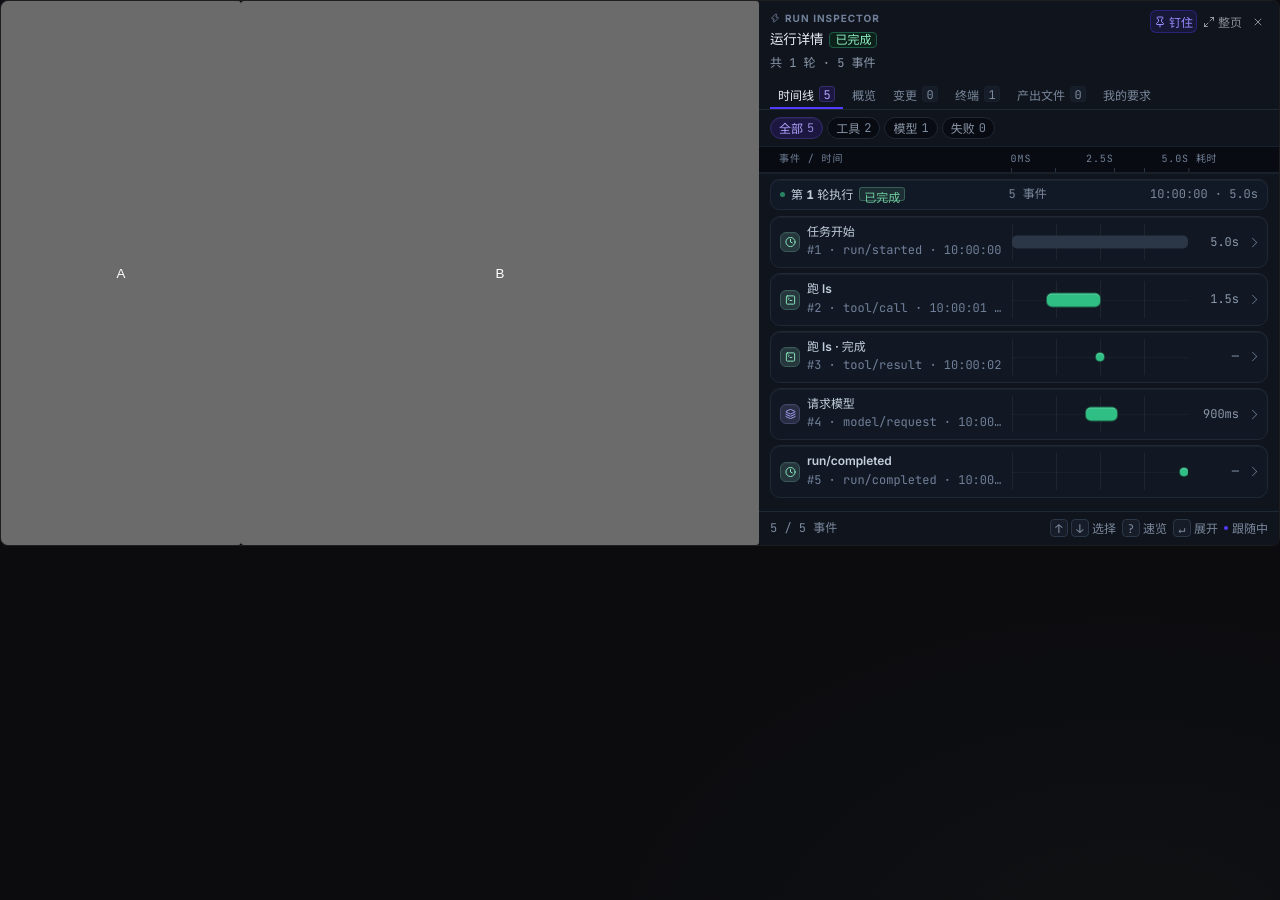
Scenario: #1419 Timeline 卡片流交互 › P2-3：A/B 会话各自维护展开集，切回不覆盖
Click the 2nd button with class "timeline-row".
click(1019, 300)  # box [771,274,1267,325]
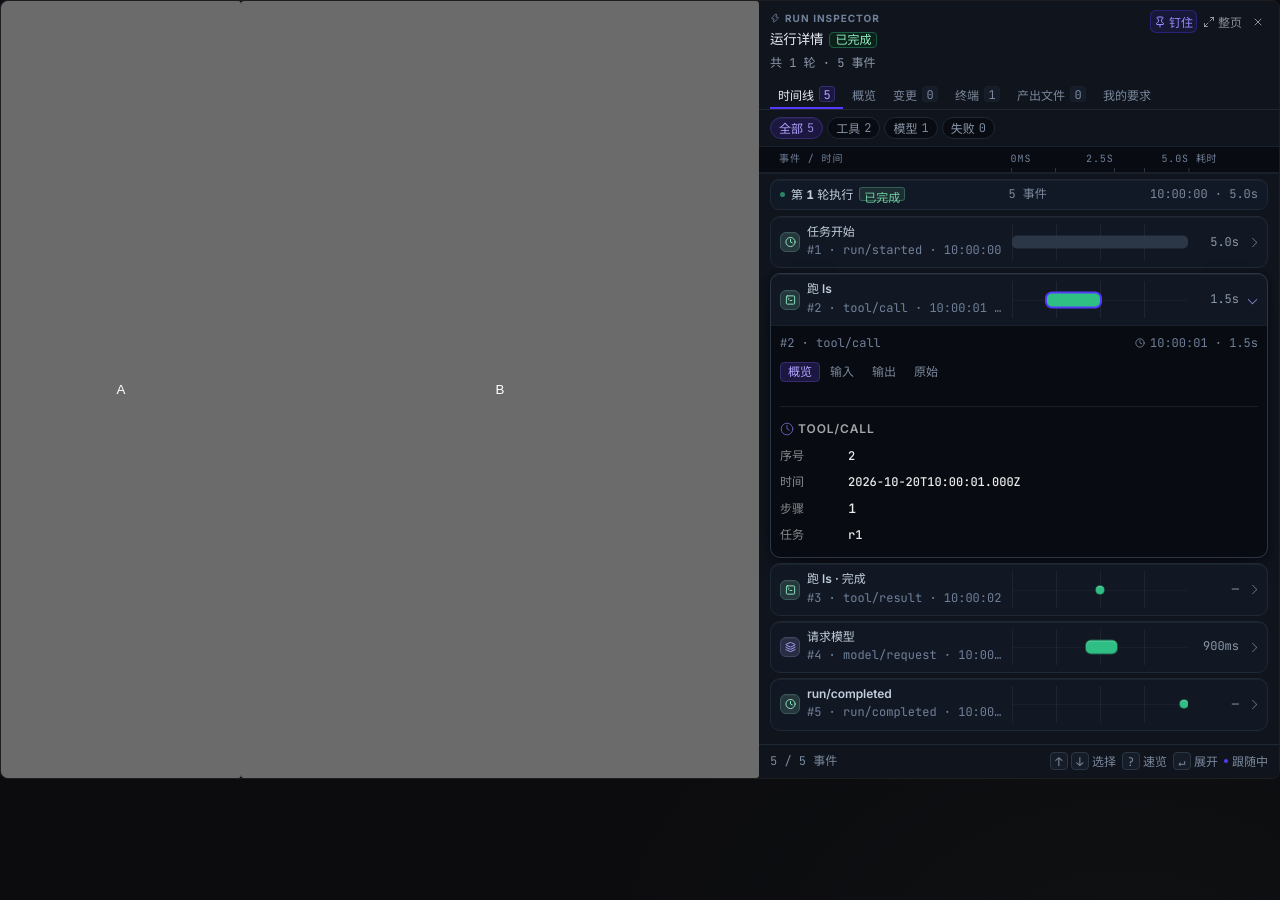
Click the button with class "host-b".
click(500, 389)  # box [241,1,759,778]
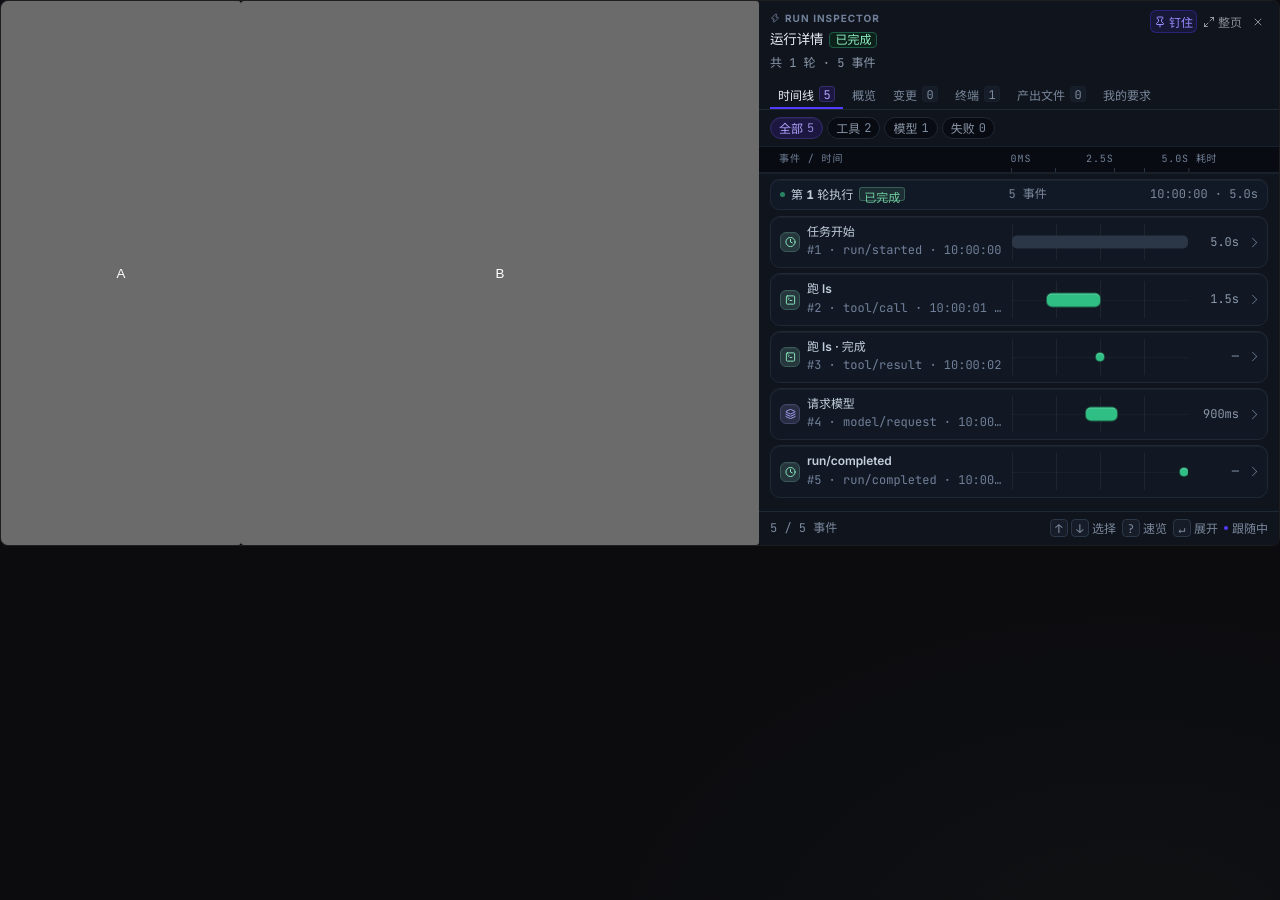
Click the button with class "timeline-row" that starts with "跑 ls · 完成".
click(1019, 357)  # box [771,332,1267,382]
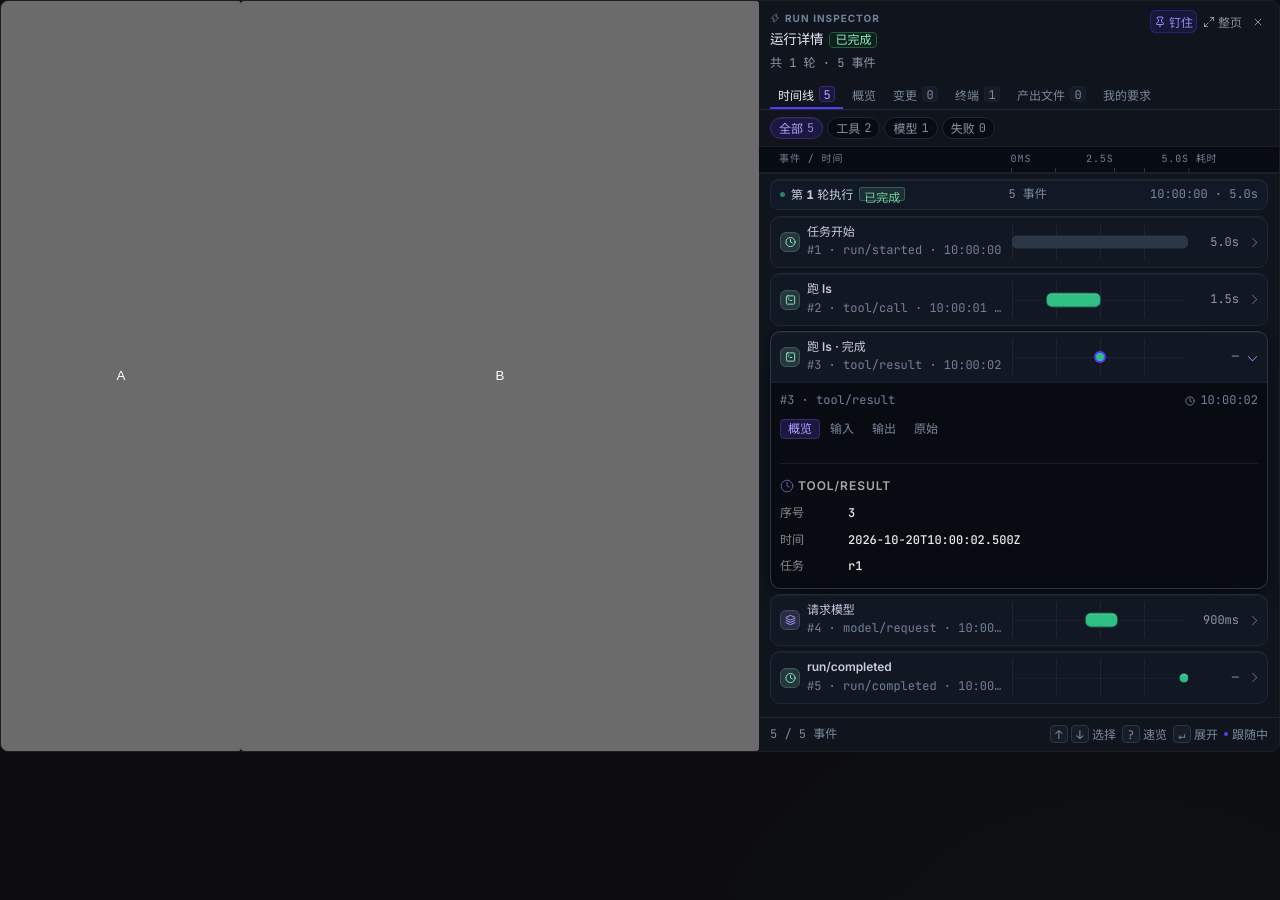
Click the button with class "host-a".
click(121, 376)  # box [1,1,241,751]
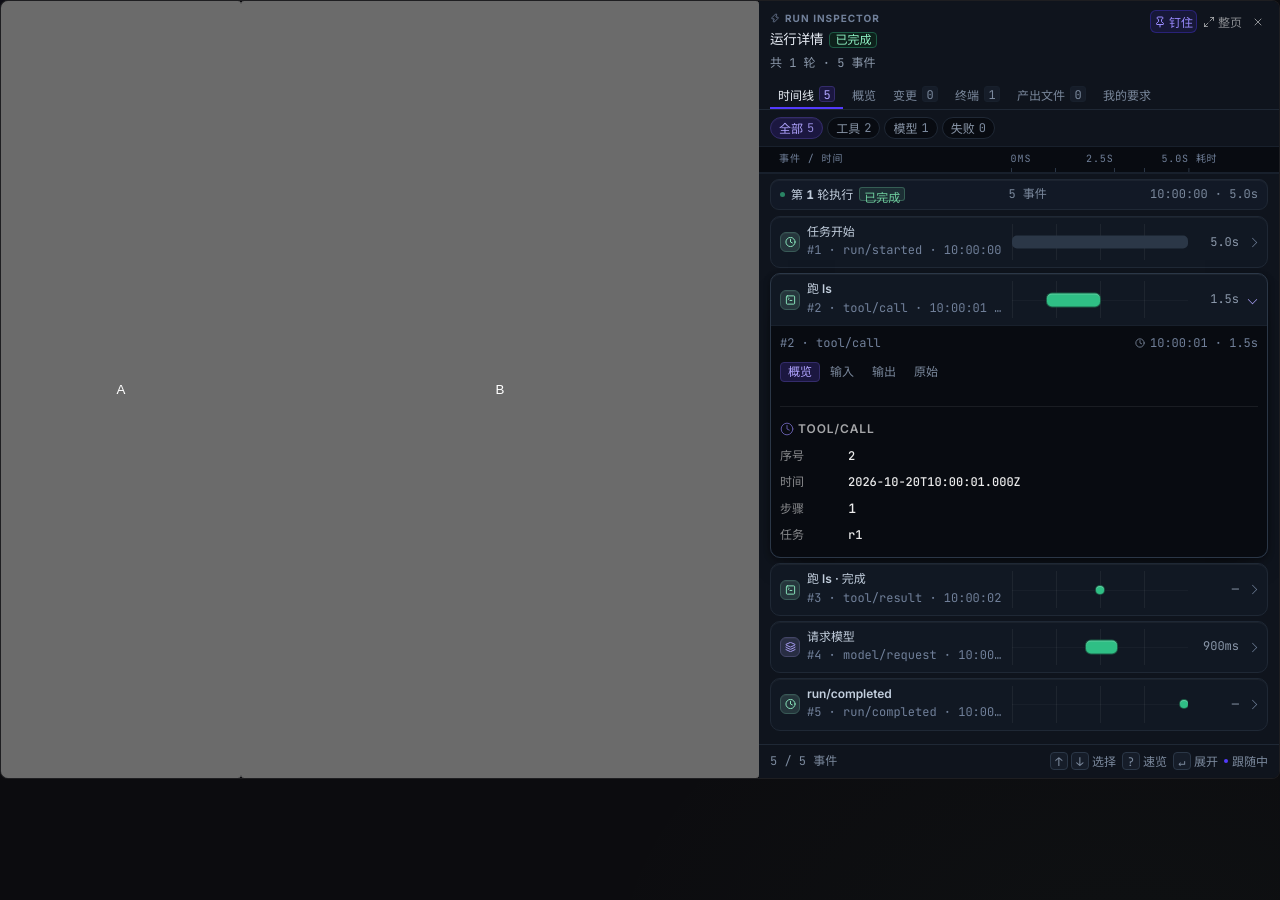
Check: the button with class "timeline-row" is collapsed, box [771,564,1267,615]
Click the button with class "host-b".
click(500, 389)  # box [241,1,759,778]
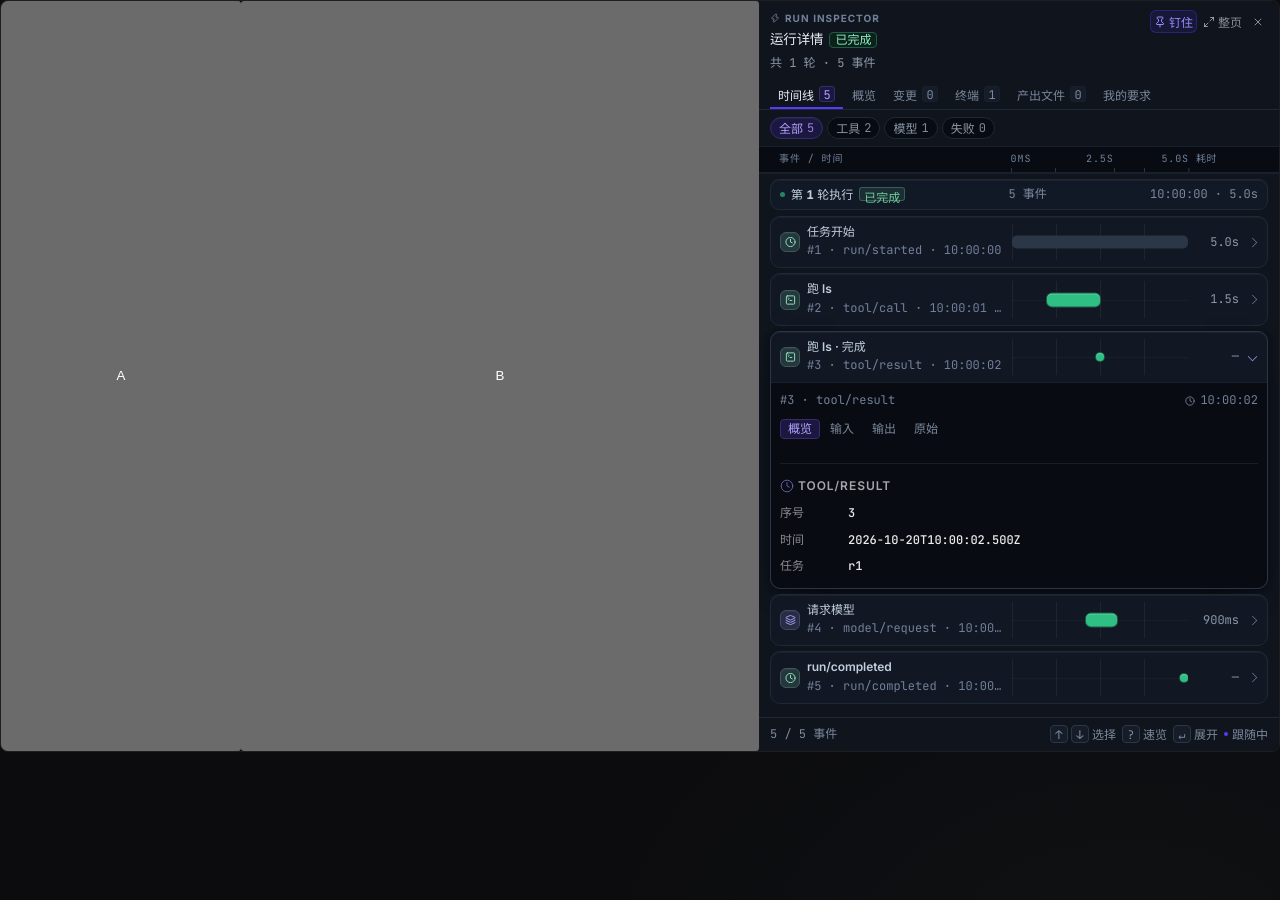
Check: the button with class "timeline-row" is expanded, box [771,332,1267,382]
